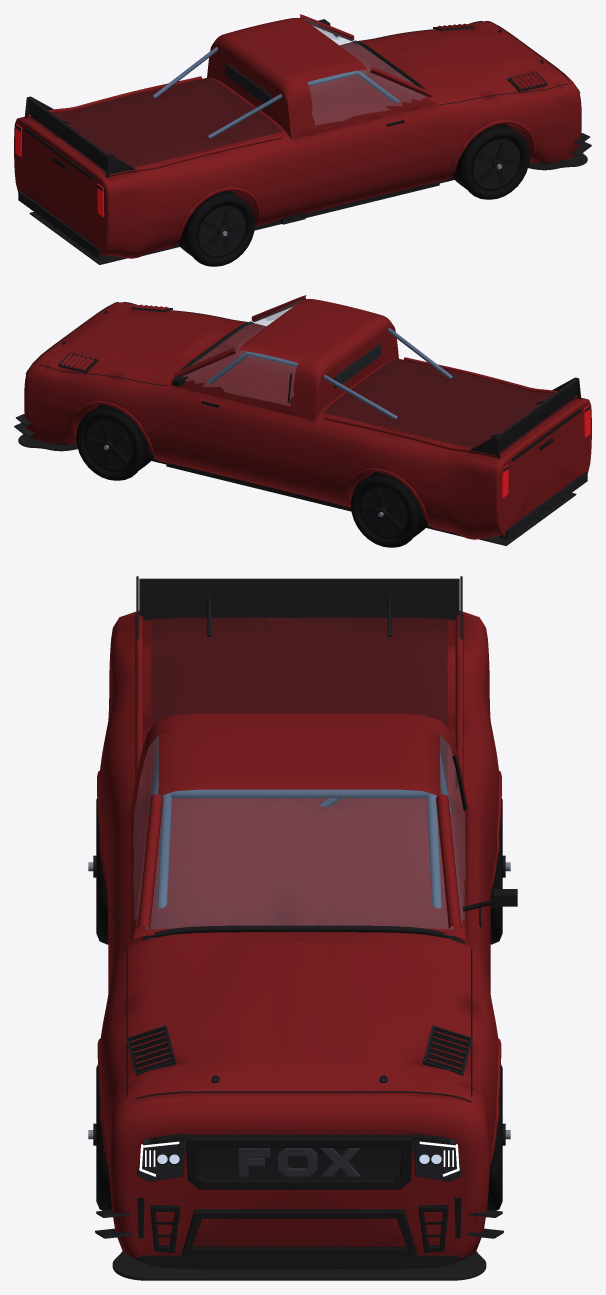
Rendered from truck_race_lod0.glb.
3 renders of one model, top to bottom at view 1: azimuth 30°, elevation 25°; view 2: azimuth 150°, elevation 25°; view 3: azimuth 270°, elevation 25°, orthographic. The views are drawn at different scales.
Parts seen in each view (by area): view 1: Body, Tire_FR, Tire_RR; view 2: Body, Tire_FL, Tire_RL; view 3: Body, Tire_FL, Tire_FR, Tire_RR, Tire_RL.
Boxes of the visible parts, x1,y1,x2,y2 form: Body: (14,14,591,264); Tire_FR: (452,123,529,199); Tire_RR: (178,191,254,266); Body: (14,295,591,545); Tire_FL: (76,404,153,480); Tire_RL: (351,472,427,547); Body: (95,576,517,1280); Tire_FL: (487,1064,510,1210); Tire_FR: (88,1064,111,1210); Tire_RR: (88,798,108,944); Tire_RL: (490,798,510,944).
Bounding box in the file's own units: 5.64 × 1.7 × 2.14.
